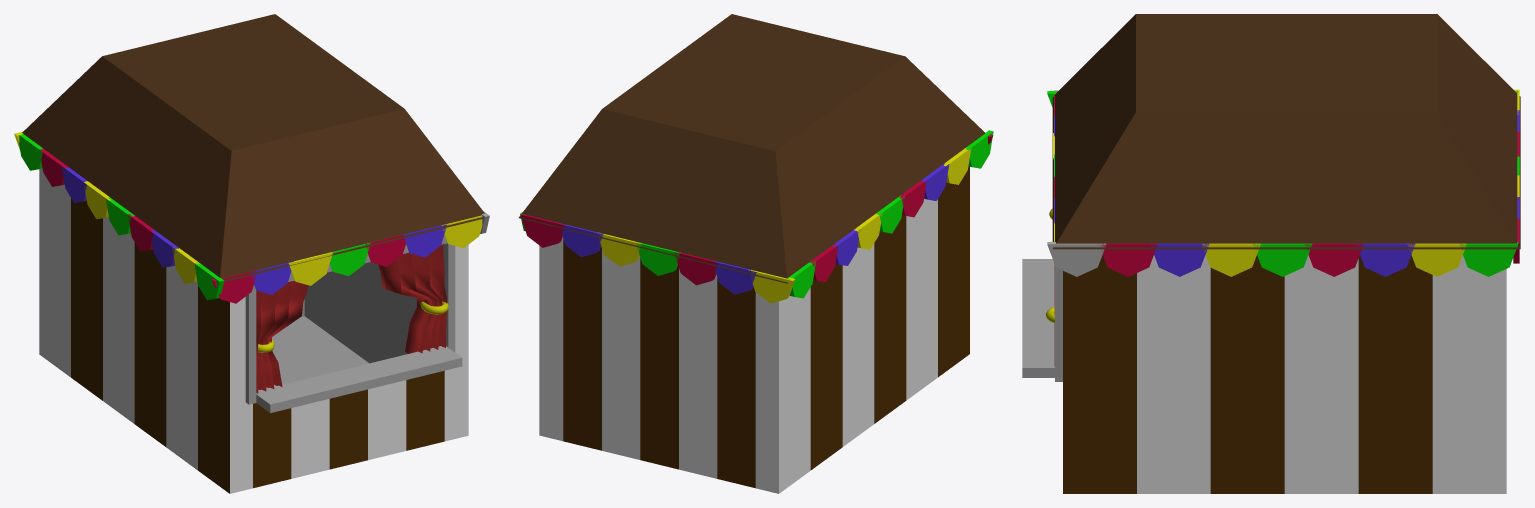
The model's file is TeatroCafe6.fbx.
3 renders of one model, left to right at view 1: azimuth 30°, elevation 25°; view 2: azimuth 150°, elevation 25°; view 3: azimuth 270°, elevation 25°, orthographic. The views are drawn at different scales.
Parts seen in each view (by area): view 1: Techo1, Escenario, Fondo, R_Curtain, L_Curtain, pCylinder30, pCylinder31, pCylinder33, pCylinder29, pCylinder32, pCylinder34, pCylinder28 (+9 smaller); view 2: Escenario, Techo1, pCylinder27, pCylinder21, pCylinder24, pCylinder25, pCylinder26, pCylinder23, pCylinder22, pCylinder16, pCylinder14, pCylinder18 (+6 smaller); view 3: Escenario, Techo1, pCylinder1, pCylinder9, pCylinder4, pCylinder2, pCylinder6, pCylinder8, pCylinder5, pCylinder7, pCylinder3.
Part boxes in pixels (bbox=[...]): Techo1: bbox=[22, 14, 484, 281]; Escenario: bbox=[39, 168, 468, 493]; Fondo: bbox=[258, 244, 444, 390]; R_Curtain: bbox=[378, 243, 446, 353]; L_Curtain: bbox=[256, 281, 308, 393]; pCylinder30: bbox=[288, 252, 332, 285]; pCylinder31: bbox=[403, 224, 446, 257]; pCylinder33: bbox=[326, 242, 370, 276]; pCylinder29: bbox=[250, 261, 293, 294]; pCylinder32: bbox=[441, 215, 482, 248]; pCylinder34: bbox=[365, 235, 406, 266]; pCylinder28: bbox=[211, 270, 257, 303]; Escenario: bbox=[539, 166, 969, 493]; Techo1: bbox=[518, 14, 985, 283]; pCylinder27: bbox=[749, 270, 795, 303]; pCylinder21: bbox=[520, 214, 565, 247]; pCylinder24: bbox=[636, 242, 680, 275]; pCylinder25: bbox=[674, 252, 718, 285]; pCylinder26: bbox=[713, 261, 756, 294]; pCylinder23: bbox=[597, 232, 641, 266]; pCylinder22: bbox=[559, 223, 603, 257]; pCylinder16: bbox=[809, 244, 838, 282]; pCylinder14: bbox=[876, 195, 904, 233]; pCylinder18: bbox=[899, 180, 926, 217]; Escenario: bbox=[1022, 255, 1506, 493]; Techo1: bbox=[1052, 14, 1520, 249]; pCylinder1: bbox=[1047, 242, 1106, 276]; pCylinder9: bbox=[1459, 242, 1518, 276]; pCylinder4: bbox=[1202, 243, 1260, 276]; pCylinder2: bbox=[1099, 243, 1157, 276]; pCylinder6: bbox=[1305, 243, 1363, 276]; pCylinder8: bbox=[1407, 243, 1466, 276]; pCylinder5: bbox=[1253, 243, 1312, 276]; pCylinder7: bbox=[1356, 243, 1415, 276]; pCylinder3: bbox=[1151, 243, 1209, 276].
Bounding box in the file's own units: 15.98 × 17.42 × 21.66.
